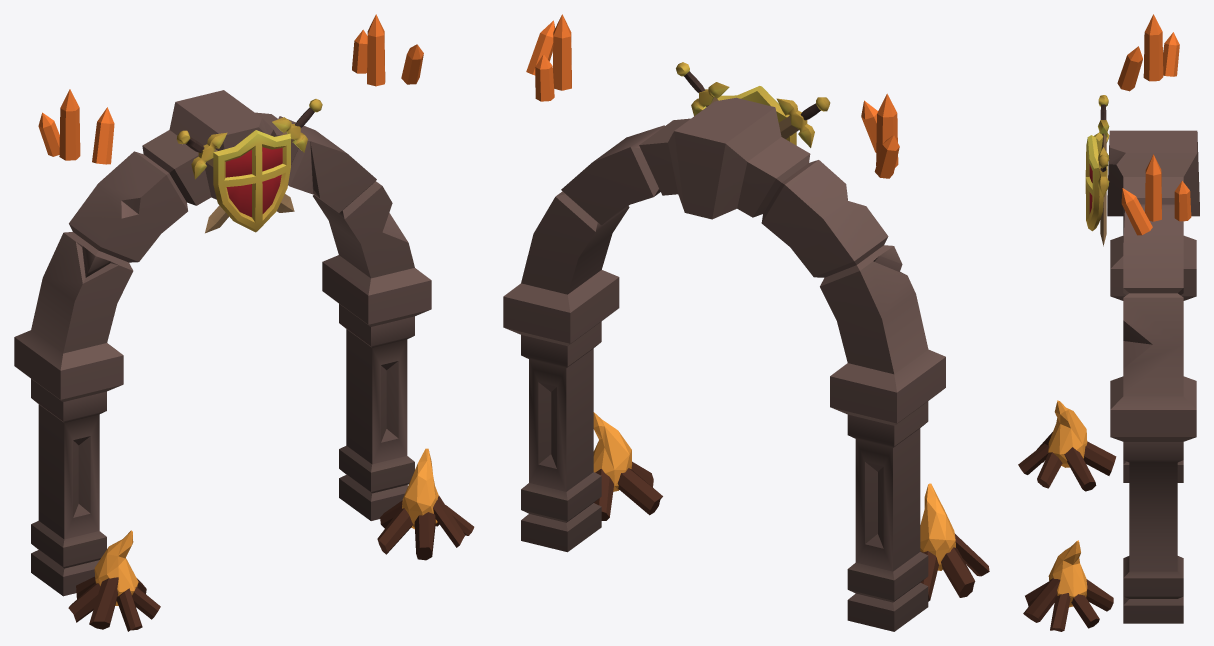
The model's file is boss_gate.fbx.
3 renders of one model, left to right at view 1: azimuth 30°, elevation 25°; view 2: azimuth 150°, elevation 25°; view 3: azimuth 270°, elevation 25°, orthographic. The views are drawn at different scales.
Visible parts, largest first — view 1: boss_gate; view 2: boss_gate; view 3: boss_gate.
Part boxes in pixels (x1,y1,x2,y2): boss_gate: (14, 14, 474, 631); boss_gate: (503, 14, 989, 631); boss_gate: (1018, 14, 1199, 631).
Bounding box in the file's own units: 4.24 × 5.11 × 1.81.
